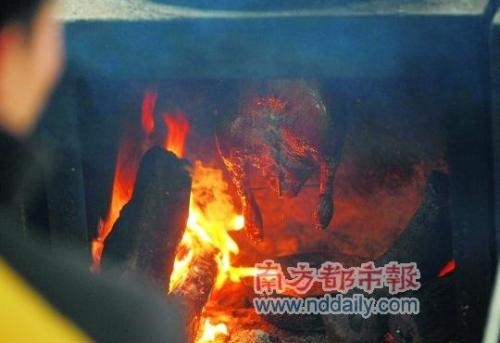fire: (168, 158, 256, 291), (90, 147, 137, 262), (149, 94, 192, 158), (193, 312, 232, 342)
